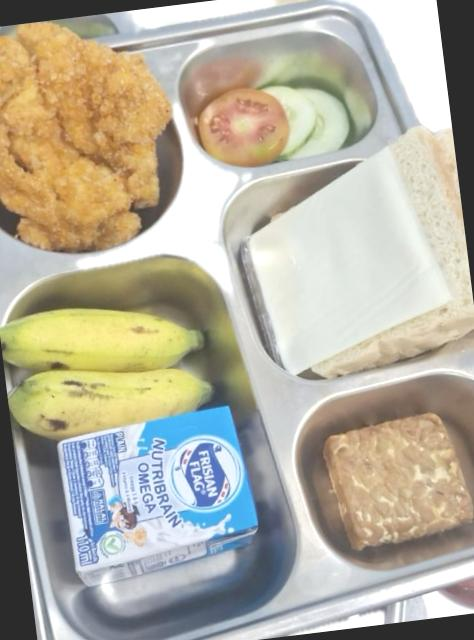ayam: (0, 22, 171, 251)
buah: (0, 309, 212, 440)
keju: (249, 150, 451, 375)
roti: (311, 127, 473, 378)
sayur: (198, 86, 349, 167)
susu: (58, 407, 258, 585)
tempe: (324, 414, 473, 550)
